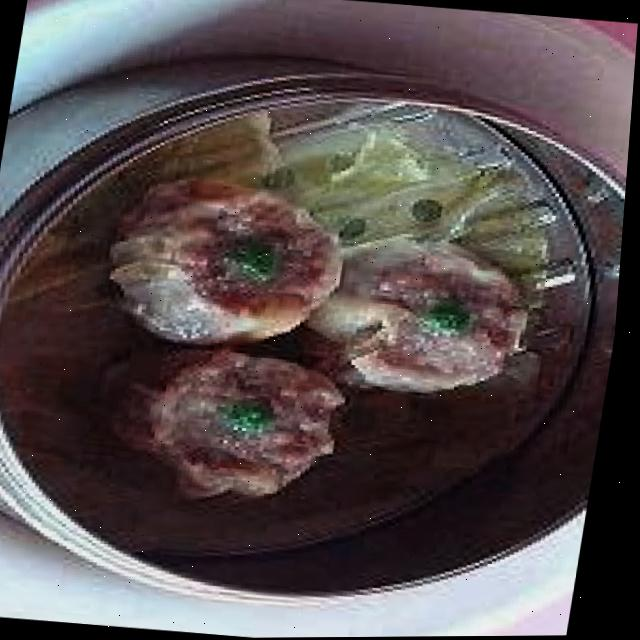带馅早点: (81, 180, 552, 525)
